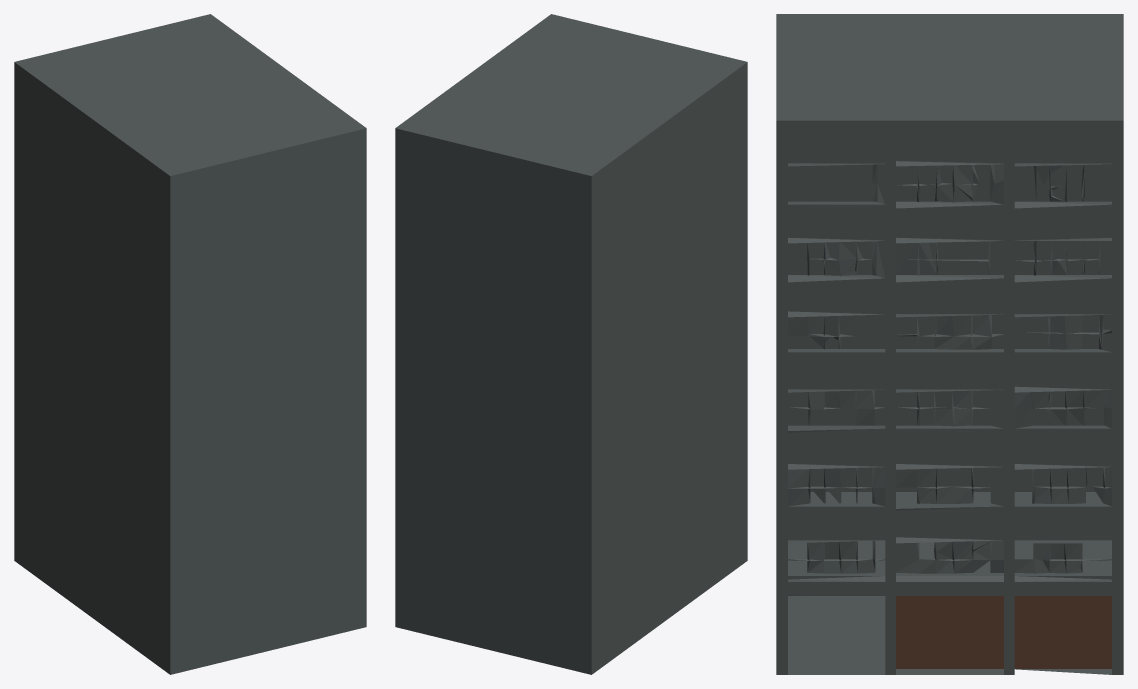
File: abandoned-building.walls-v1.lod1.glb
The picture shows the model from 3 angles, left to right: view 1: azimuth 30°, elevation 25°; view 2: azimuth 150°, elevation 25°; view 3: azimuth 270°, elevation 25°; orthographic projection. The views are drawn at different scales.
Visible parts, largest first — view 1: Cube_Material.002_0; view 2: Cube_Material.002_0; view 3: Cube_Material.002_0.
Part boxes in pixels (<box>): Cube_Material.002_0: <box>14,14,366,674</box>; Cube_Material.002_0: <box>395,14,747,674</box>; Cube_Material.002_0: <box>776,14,1123,674</box>.
Size of the model in its own units: 5.36 by 13 by 7.37.
